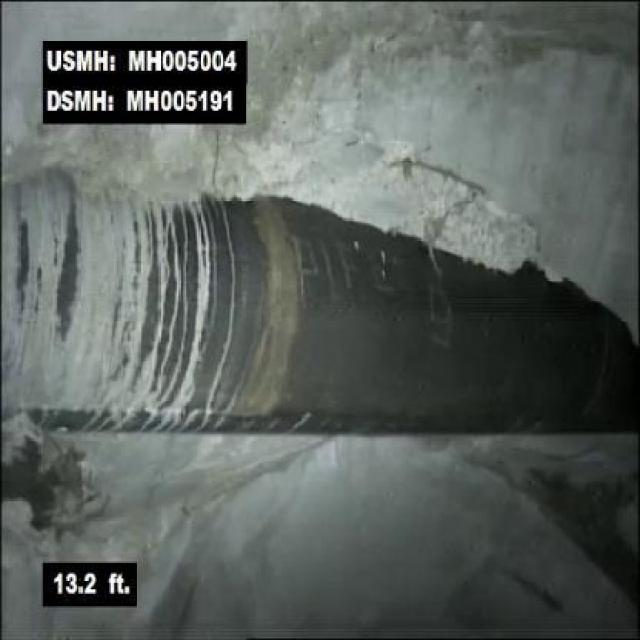Utility intrusion: (0, 158, 635, 438)
